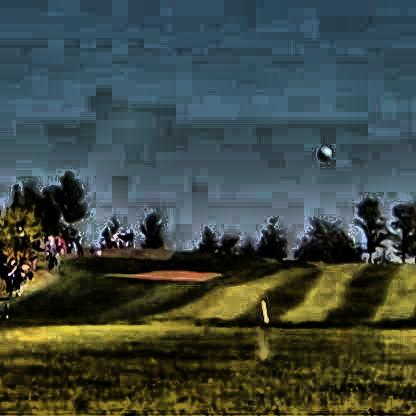golfball: (314, 142, 329, 160)
